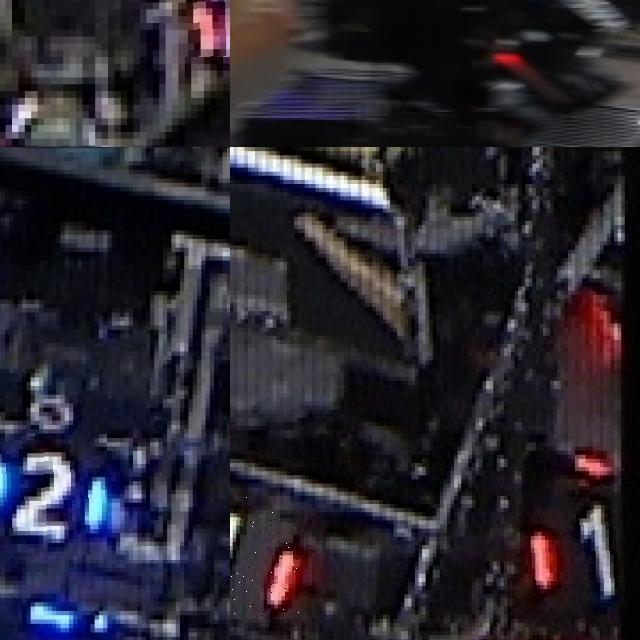B2: (0, 433, 107, 559)
R1: (505, 485, 640, 608), (230, 496, 306, 619)
R2: (178, 0, 230, 57)
